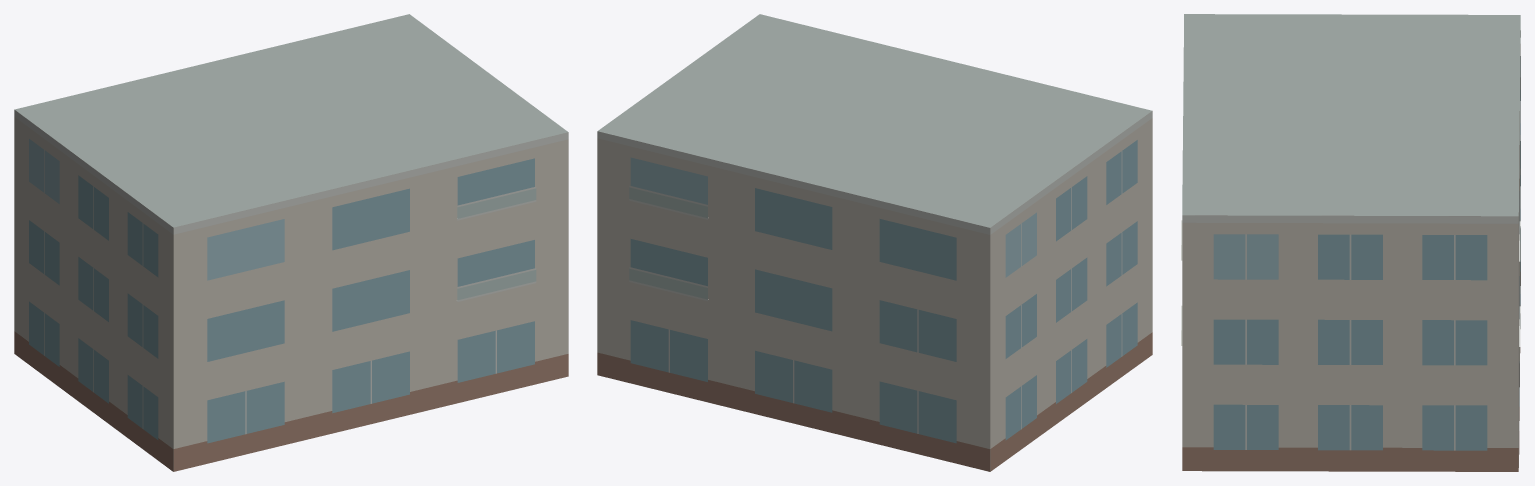
Rendered from survey-upis-32501768.glb.
The picture shows the model from 3 angles, left to right: view 1: azimuth 30°, elevation 25°; view 2: azimuth 150°, elevation 25°; view 3: azimuth 270°, elevation 25°; orthographic projection. The views are drawn at different scales.
Parts seen in each view (by area): view 1: survey-upis-32501768.tmp; view 2: survey-upis-32501768.tmp; view 3: survey-upis-32501768.tmp.
Part boxes in pixels (bbox=[...]): survey-upis-32501768.tmp: bbox=[14, 14, 568, 471]; survey-upis-32501768.tmp: bbox=[597, 14, 1152, 471]; survey-upis-32501768.tmp: bbox=[1181, 14, 1520, 471].
Bounding box in the file's own units: 14.21 × 8.37 × 10.09.
